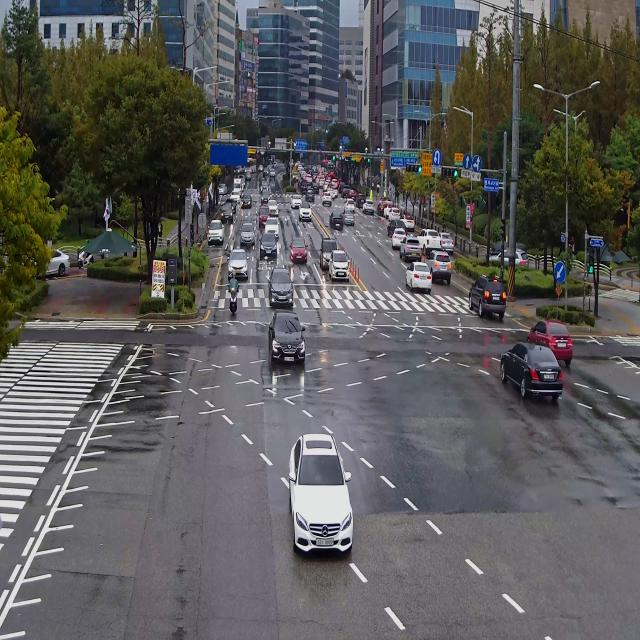Bus: (243, 156, 257, 174)
Car: (282, 422, 357, 568), (497, 321, 567, 410), (529, 309, 575, 369), (19, 239, 76, 284), (264, 311, 310, 366), (463, 266, 508, 320), (263, 265, 295, 308), (402, 259, 432, 295), (486, 250, 530, 274), (428, 245, 454, 283), (226, 244, 250, 281), (326, 246, 348, 285), (414, 219, 439, 250), (401, 230, 420, 264), (259, 230, 277, 265), (206, 220, 223, 253), (289, 234, 309, 262), (317, 234, 332, 270), (239, 218, 258, 245), (264, 218, 284, 242), (436, 224, 453, 252), (329, 208, 346, 234), (385, 219, 407, 237), (267, 198, 283, 220), (218, 203, 235, 223), (299, 201, 312, 225), (343, 204, 358, 224), (399, 211, 415, 229), (257, 204, 269, 227), (391, 227, 403, 249), (342, 197, 357, 214), (362, 198, 376, 216), (376, 199, 389, 218), (290, 193, 303, 210), (355, 191, 368, 208), (240, 192, 252, 210), (260, 188, 271, 204), (384, 201, 394, 218), (217, 181, 228, 196), (389, 207, 400, 221), (323, 190, 332, 207), (226, 197, 236, 212), (298, 179, 308, 194), (230, 190, 241, 203), (341, 184, 352, 196), (347, 188, 358, 200), (259, 180, 269, 193), (326, 186, 334, 202), (306, 188, 315, 202), (330, 184, 339, 197), (291, 171, 300, 182), (310, 182, 318, 193), (270, 168, 276, 182), (244, 172, 252, 182), (263, 168, 270, 178), (338, 181, 344, 192), (273, 159, 279, 169), (258, 163, 264, 173), (241, 172, 245, 186), (268, 163, 274, 171), (234, 166, 240, 174), (240, 178, 243, 192), (238, 164, 242, 172)
Motorcycle: (226, 275, 243, 323), (78, 238, 94, 272), (294, 174, 296, 184)
Truck: (234, 177, 242, 195)
